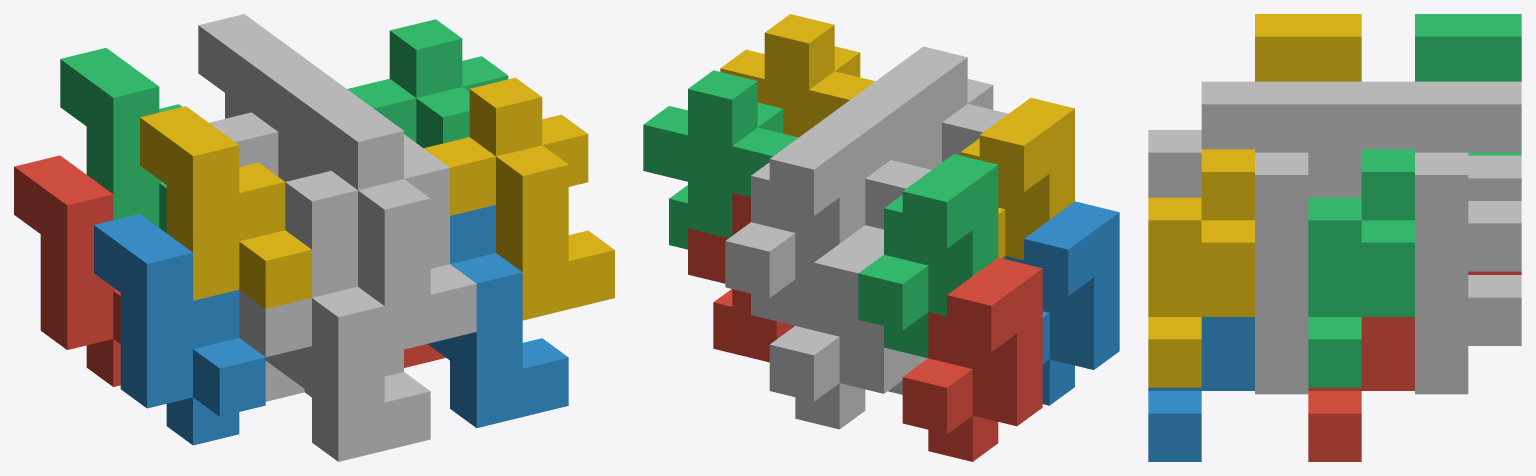
Rendered from tiling.obj.
The picture shows the model from 3 angles, left to right: view 1: azimuth 30°, elevation 25°; view 2: azimuth 150°, elevation 25°; view 3: azimuth 270°, elevation 25°; orthographic projection. The views are drawn at different scales.
Visible parts, largest first — view 1: copy_2_domain_4, copy_2_domain_8, copy_1_domain_2, copy_2_domain_2, copy_1_domain_4, copy_2_domain_6, copy_1_domain_1, copy_1_domain_3, copy_2_domain_7, copy_1_domain_8, copy_2_domain_3, copy_1_domain_7 (+3 smaller); view 2: copy_1_domain_1, copy_1_domain_7, copy_1_domain_3, copy_1_domain_5, copy_2_domain_7, copy_1_domain_2, copy_1_domain_4, copy_2_domain_8, copy_2_domain_5, copy_1_domain_8, copy_2_domain_4, copy_2_domain_3; view 3: copy_1_domain_7, copy_2_domain_7, copy_2_domain_8, copy_1_domain_8, copy_1_domain_5, copy_2_domain_5, copy_2_domain_6, copy_1_domain_3, copy_2_domain_4, copy_1_domain_4, copy_2_domain_3, copy_1_domain_6.
Part boxes in pixels (x1,y1,x2,y2): copy_2_domain_4: (285,111,476,353); copy_2_domain_8: (424,77,614,320); copy_1_domain_2: (94,214,265,445); copy_2_domain_2: (239,238,430,461); copy_1_domain_4: (140,106,311,308); copy_2_domain_6: (428,205,568,427); copy_1_domain_1: (14,155,120,386); copy_1_domain_3: (60,48,182,232); copy_2_domain_7: (347,19,508,148); copy_1_domain_8: (278,72,449,268); copy_2_domain_3: (209,53,323,181); copy_1_domain_7: (198,14,296,118); copy_1_domain_1: (902,257,1042,461); copy_1_domain_7: (725,121,865,325); copy_1_domain_3: (858,154,998,357); copy_1_domain_5: (769,225,909,429); copy_2_domain_7: (643,70,798,249); copy_1_domain_2: (1005,201,1119,405); copy_1_domain_4: (961,98,1074,259); copy_2_domain_8: (720,14,875,137); copy_2_domain_5: (688,192,794,362); copy_1_domain_8: (847,65,941,169); copy_2_domain_4: (898,46,1008,162); copy_2_domain_3: (821,102,931,229); copy_1_domain_7: (1415,81,1521,320); copy_2_domain_7: (1308,149,1414,387); copy_2_domain_8: (1148,149,1254,387); copy_1_domain_8: (1255,81,1361,320); copy_1_domain_5: (1415,155,1521,394); copy_2_domain_5: (1308,317,1414,461); copy_2_domain_6: (1148,317,1254,461); copy_1_domain_3: (1415,14,1521,155); copy_2_domain_4: (1148,81,1254,197); copy_1_domain_4: (1255,14,1361,81); copy_2_domain_3: (1308,81,1414,197); copy_1_domain_6: (1255,320,1308,394).
Bounding box in the file's own units: 9 × 6 × 7.
